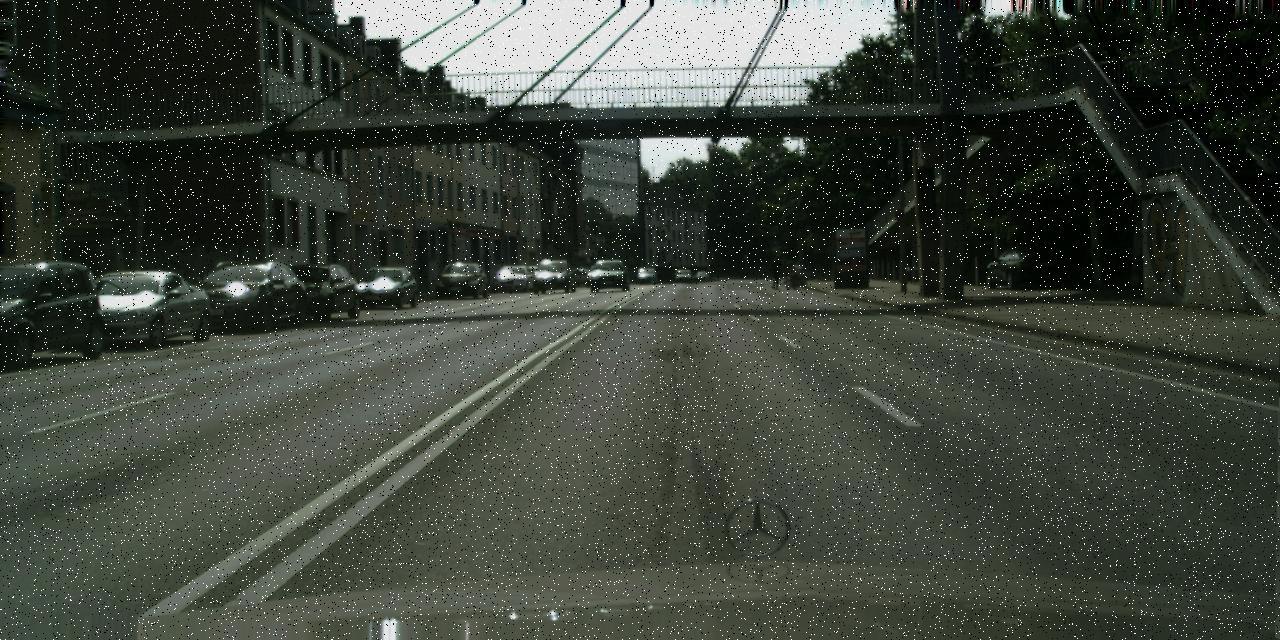ped: (768, 254, 782, 290)
